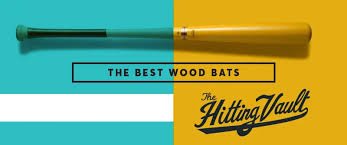baseball bat: (14, 23, 312, 46)
